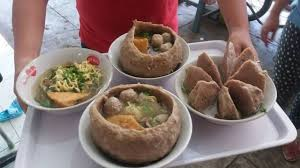bakso: (92, 83, 180, 158), (189, 48, 265, 121), (31, 54, 103, 110), (122, 20, 182, 73)
